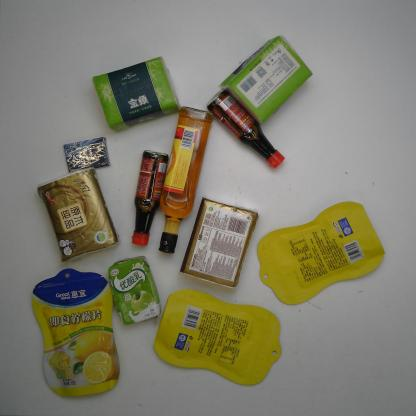Dried Fruit: (257, 201, 385, 305), (154, 289, 283, 386), (31, 268, 120, 398)
Gum: (63, 136, 112, 174)
Milk: (107, 255, 162, 327)
Seasoner: (158, 106, 214, 254), (206, 89, 286, 170), (131, 149, 169, 246)
Tissue: (218, 35, 313, 126), (36, 167, 121, 264), (178, 196, 260, 290), (92, 56, 182, 134)
